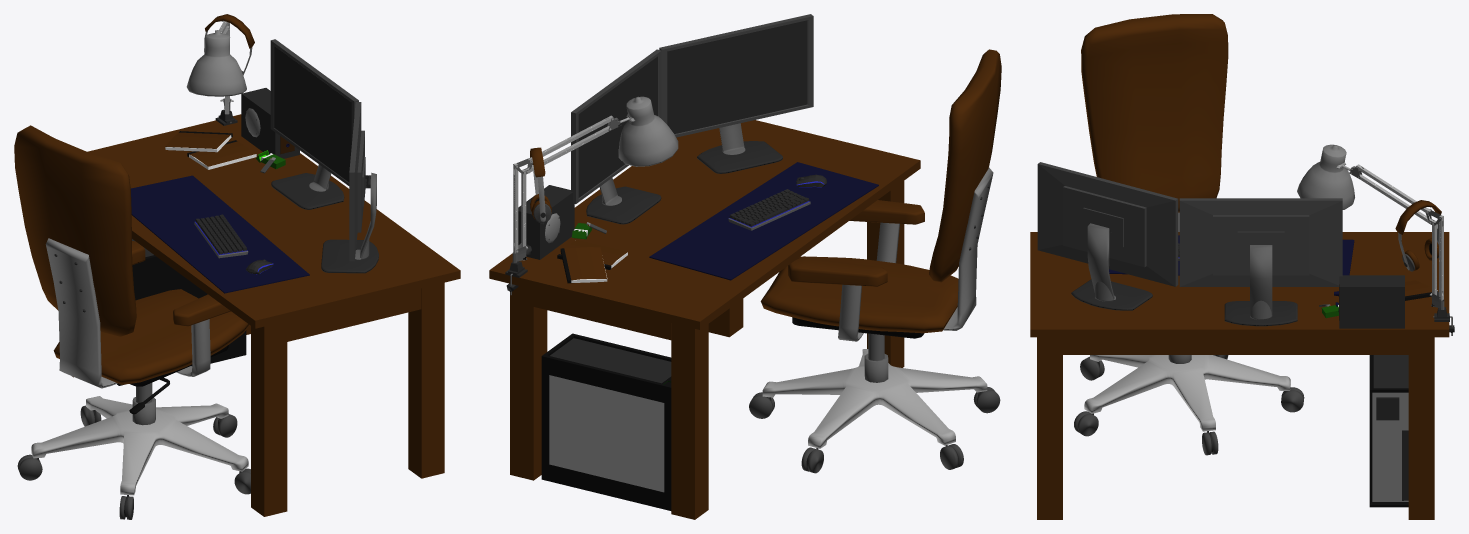
The model's file is office-new.glb.
The picture shows the model from 3 angles, left to right: view 1: azimuth 30°, elevation 25°; view 2: azimuth 150°, elevation 25°; view 3: azimuth 270°, elevation 25°; orthographic projection. The views are drawn at different scales.
Parts seen in each view (by area): view 1: object 2, object 7, Monitor1_2, Podkladka_pod_myszke/klawiature_9, Monitor1.001_14, lampa_3, komputer_0, object 8, Klawiatura_4, Zeszyt1.001_13, Zeszyt1_12, object 9; view 2: object 7, object 2, komputer_0, Monitor1.001_14, Podkladka_pod_myszke/klawiature_9, Monitor1_2, lampa_3, object 8, Klawiatura_4, Zeszyt1.001_13, object 9, Zeszyt1_12; view 3: object 7, object 2, Monitor1_2, Monitor1.001_14, komputer_0, lampa_3, object 8, object 9, Podkladka_pod_myszke/klawiature_9.
Boxes of the visible parts, x1=… form: object 2: x1=14, y1=125, x2=250, y2=519; object 7: x1=72, y1=114, x2=460, y2=516; Monitor1_2: x1=270, y1=39, x2=358, y2=209; Podkladka_pod_myszke/klawiature_9: x1=131, y1=175, x2=309, y2=293; Monitor1.001_14: x1=321, y1=102, x2=378, y2=273; lampa_3: x1=186, y1=21, x2=246, y2=125; komputer_0: x1=117, y1=239, x2=246, y2=385; object 8: x1=241, y1=88, x2=299, y2=158; Klawiatura_4: x1=194, y1=214, x2=248, y2=258; Zeszyt1.001_13: x1=165, y1=131, x2=232, y2=152; Zeszyt1_12: x1=187, y1=140, x2=256, y2=169; object 9: x1=204, y1=14, x2=254, y2=75; object 7: x1=489, y1=120, x2=920, y2=519; object 2: x1=749, y1=49, x2=1001, y2=473; komputer_0: x1=541, y1=333, x2=671, y2=510; Monitor1.001_14: x1=659, y1=14, x2=813, y2=173; Podkladka_pod_myszke/klawiature_9: x1=649, y1=162, x2=878, y2=280; Monitor1_2: x1=571, y1=49, x2=661, y2=224; lampa_3: x1=505, y1=96, x2=678, y2=295; object 8: x1=518, y1=185, x2=574, y2=259; Klawiatura_4: x1=728, y1=189, x2=810, y2=230; Zeszyt1.001_13: x1=560, y1=247, x2=607, y2=283; object 9: x1=530, y1=147, x2=551, y2=224; Zeszyt1_12: x1=557, y1=240, x2=627, y2=269; object 7: x1=1030, y1=232, x2=1449, y2=519; object 2: x1=1074, y1=14, x2=1304, y2=455; Monitor1_2: x1=1179, y1=198, x2=1342, y2=326; Monitor1.001_14: x1=1037, y1=162, x2=1178, y2=310; komputer_0: x1=1369, y1=355, x2=1408, y2=507; lampa_3: x1=1297, y1=144, x2=1454, y2=335; object 8: x1=1334, y1=275, x2=1404, y2=328; object 9: x1=1395, y1=200, x2=1441, y2=271; Podkladka_pod_myszke/klawiature_9: x1=1109, y1=235, x2=1354, y2=275.
Bounding box in the file's own units: 1.35 × 1.34 × 1.47.
Materials: 13 (13 with a texture image).
